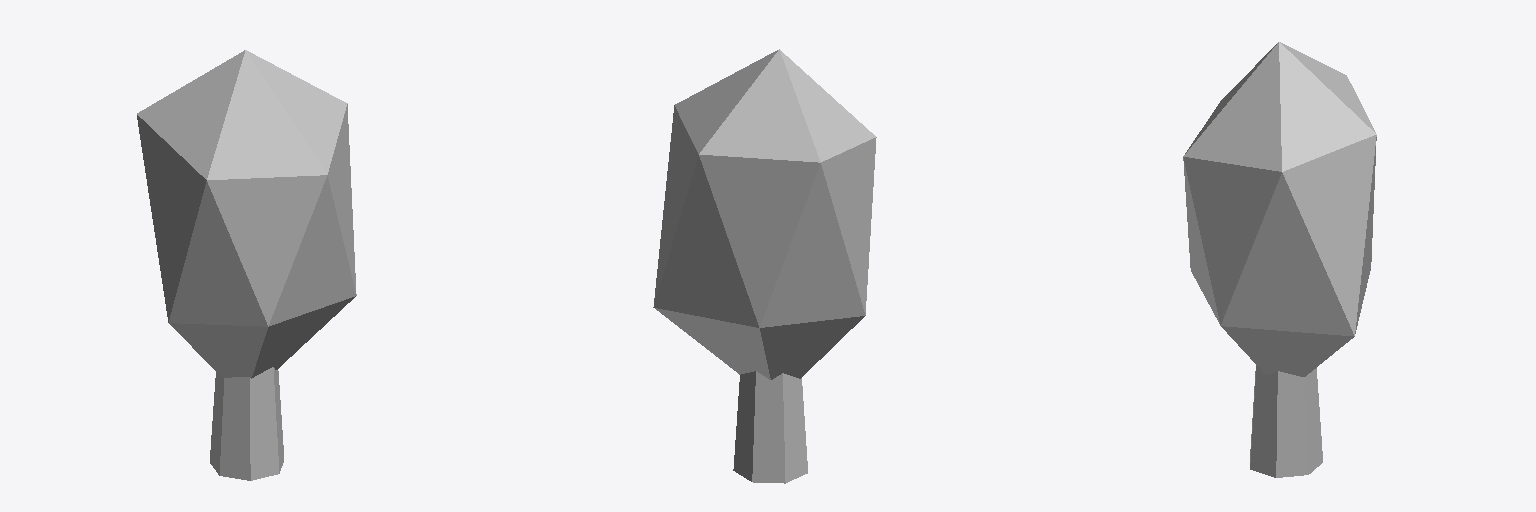
Rendered from tree3.obj.
3 views of the same model, side by side, from view 1: azimuth 30°, elevation 25°; view 2: azimuth 150°, elevation 25°; view 3: azimuth 270°, elevation 25° (orthographic).
Parts seen in each view (by area): view 1: tree3_Cylinder.018; view 2: tree3_Cylinder.018; view 3: tree3_Cylinder.018.
Boxes of the visible parts, x1,y1,x2,y2 form: tree3_Cylinder.018: [137, 50, 356, 480]; tree3_Cylinder.018: [653, 49, 876, 483]; tree3_Cylinder.018: [1183, 42, 1376, 477].
Bounding box in the file's own units: 2.03 × 4.38 × 1.84.